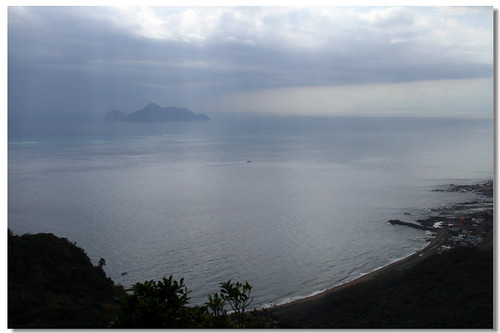turtleIslandLeft: (103, 99, 212, 121)
